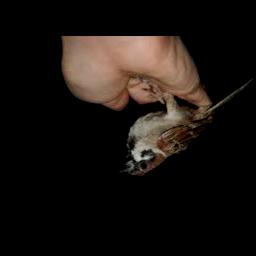Sparrow: (116, 80, 253, 178)
